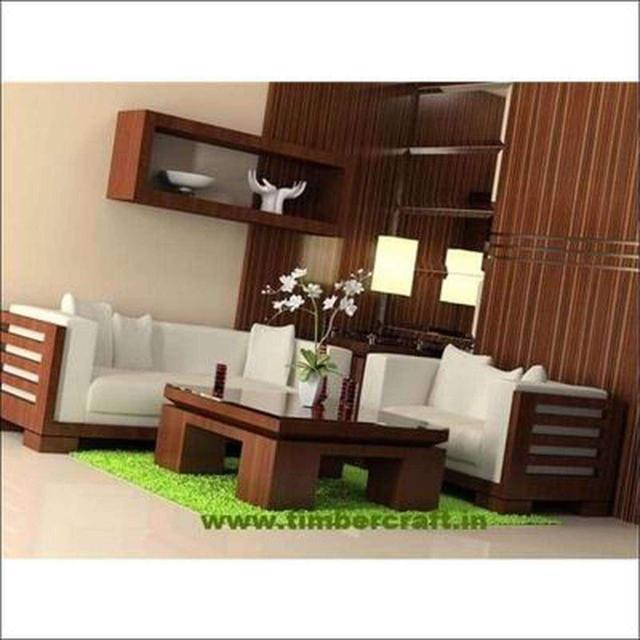sofa: (2, 297, 353, 454), (355, 344, 625, 516)
